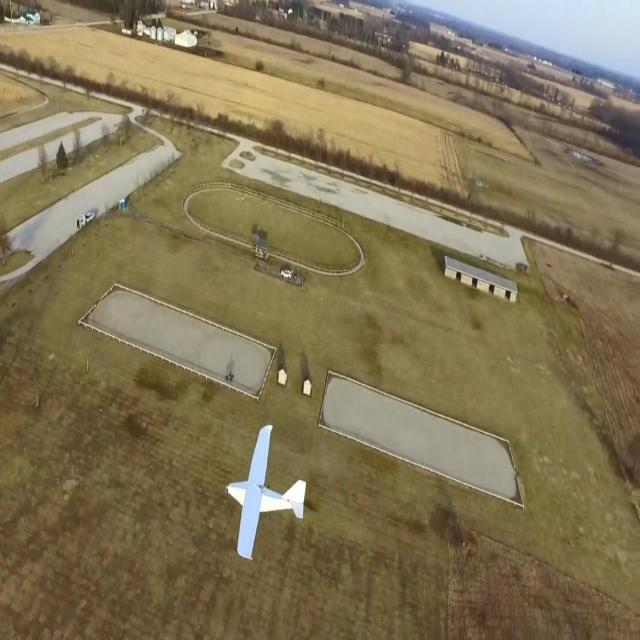UAV: (204, 416, 329, 564)
